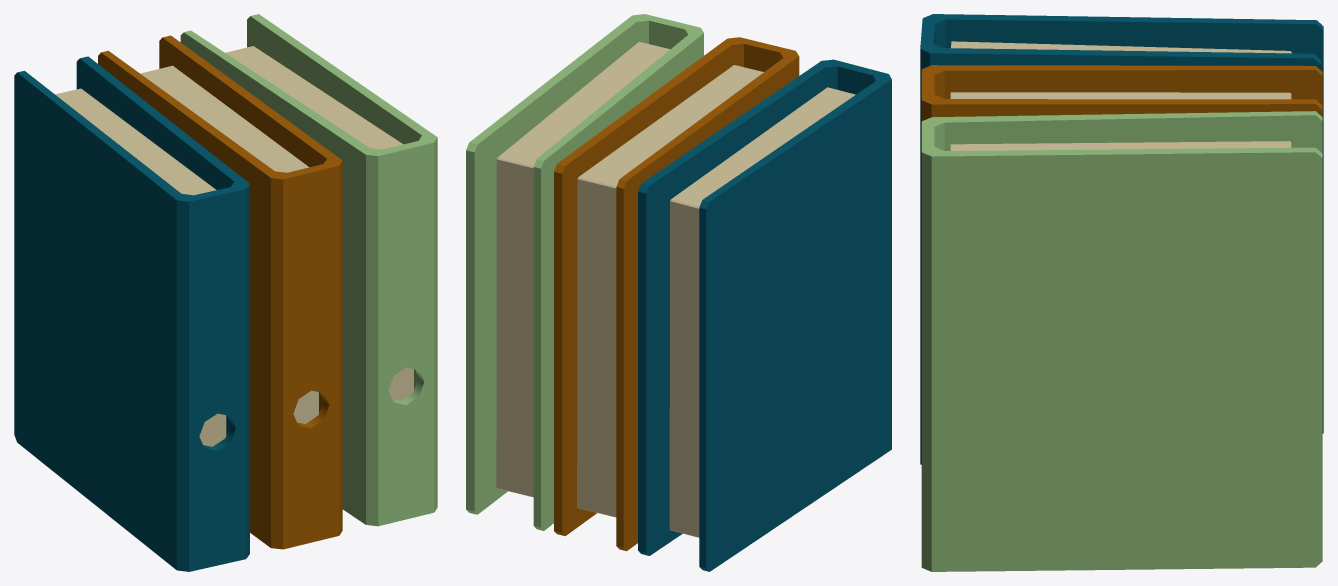
Rendered from SM_Folders_B_GRP_03.fbx.
The picture shows the model from 3 angles, left to right: view 1: azimuth 30°, elevation 25°; view 2: azimuth 150°, elevation 25°; view 3: azimuth 270°, elevation 25°; orthographic projection. The views are drawn at different scales.
Parts seen in each view (by area): view 1: SM_Folders_B_GRP_03; view 2: SM_Folders_B_GRP_03; view 3: SM_Folders_B_GRP_03.
Boxes of the visible parts, x1,y1,x2,y2 form: SM_Folders_B_GRP_03: [14, 14, 437, 571]; SM_Folders_B_GRP_03: [466, 14, 891, 571]; SM_Folders_B_GRP_03: [920, 14, 1323, 571].
Bounding box in the file's own units: 27.08 × 36.8 × 32.4.
